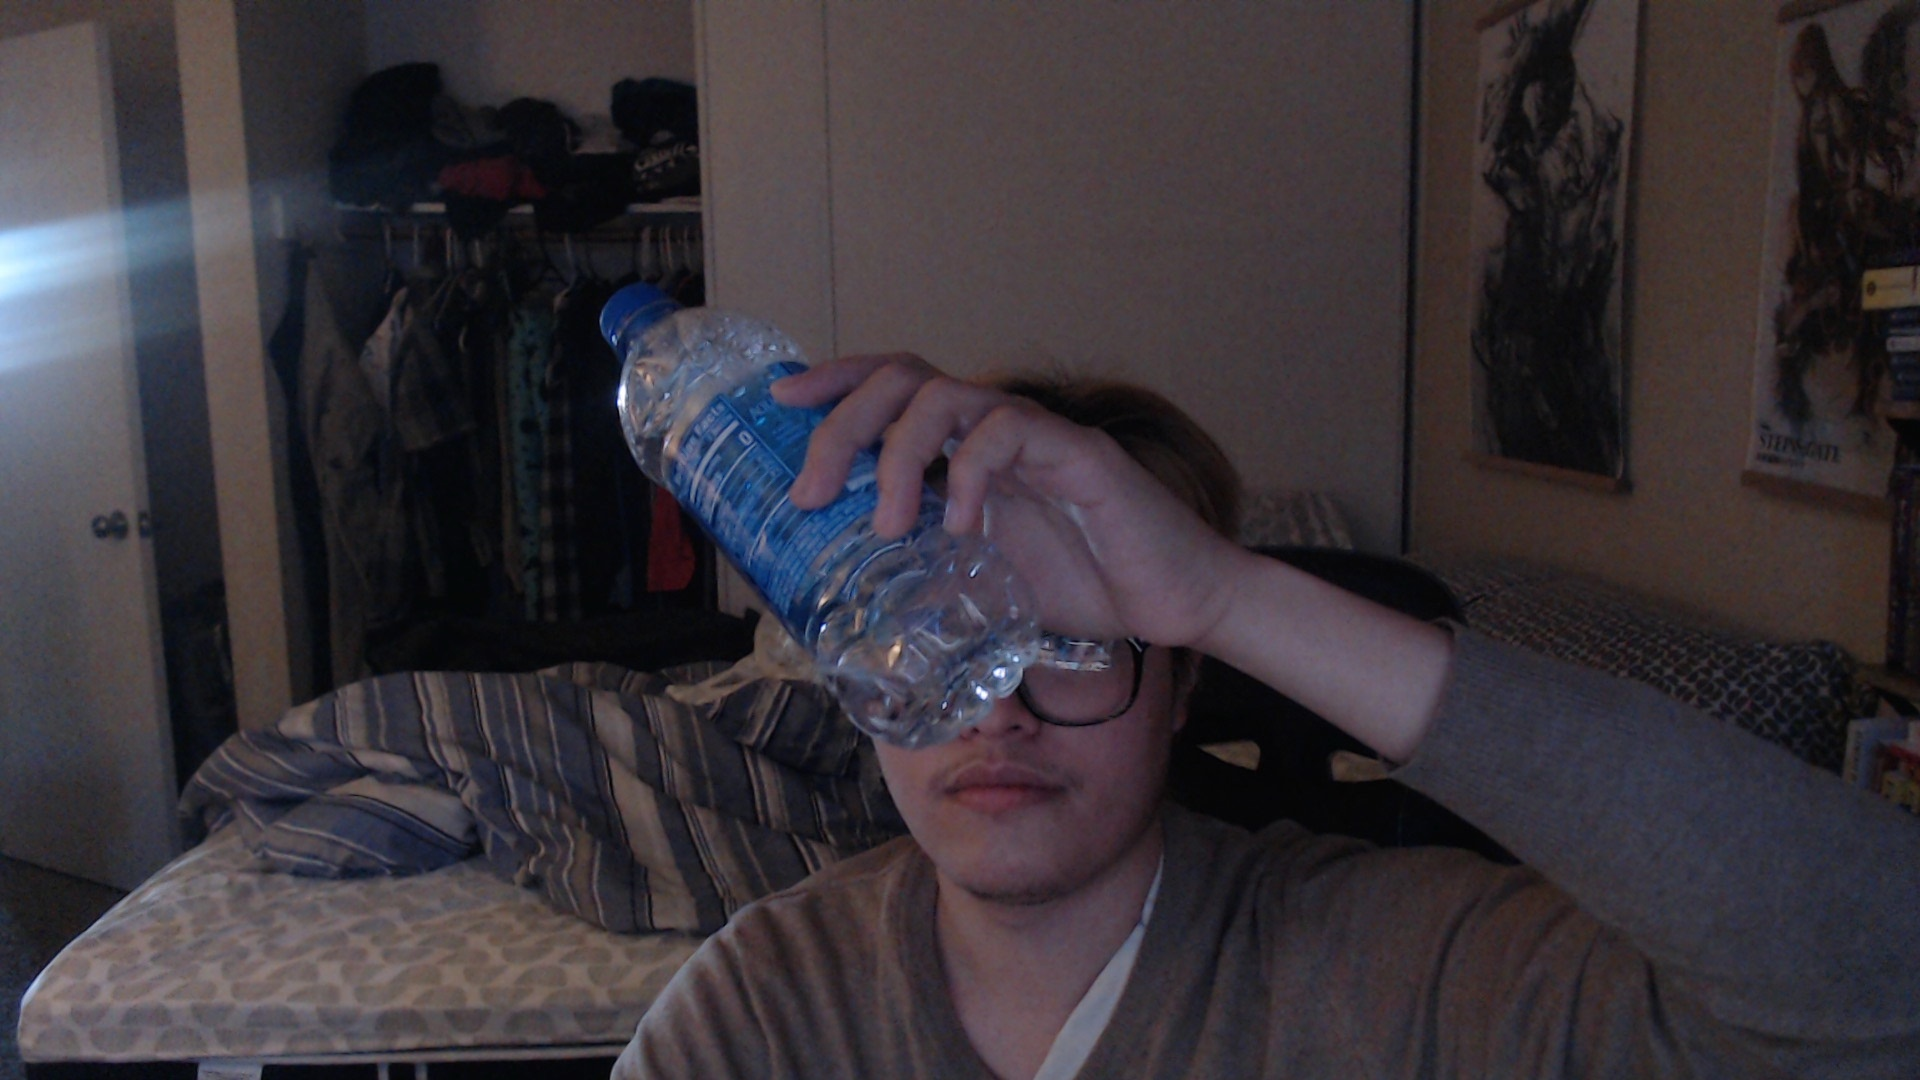bottle: (591, 282, 1040, 754)
